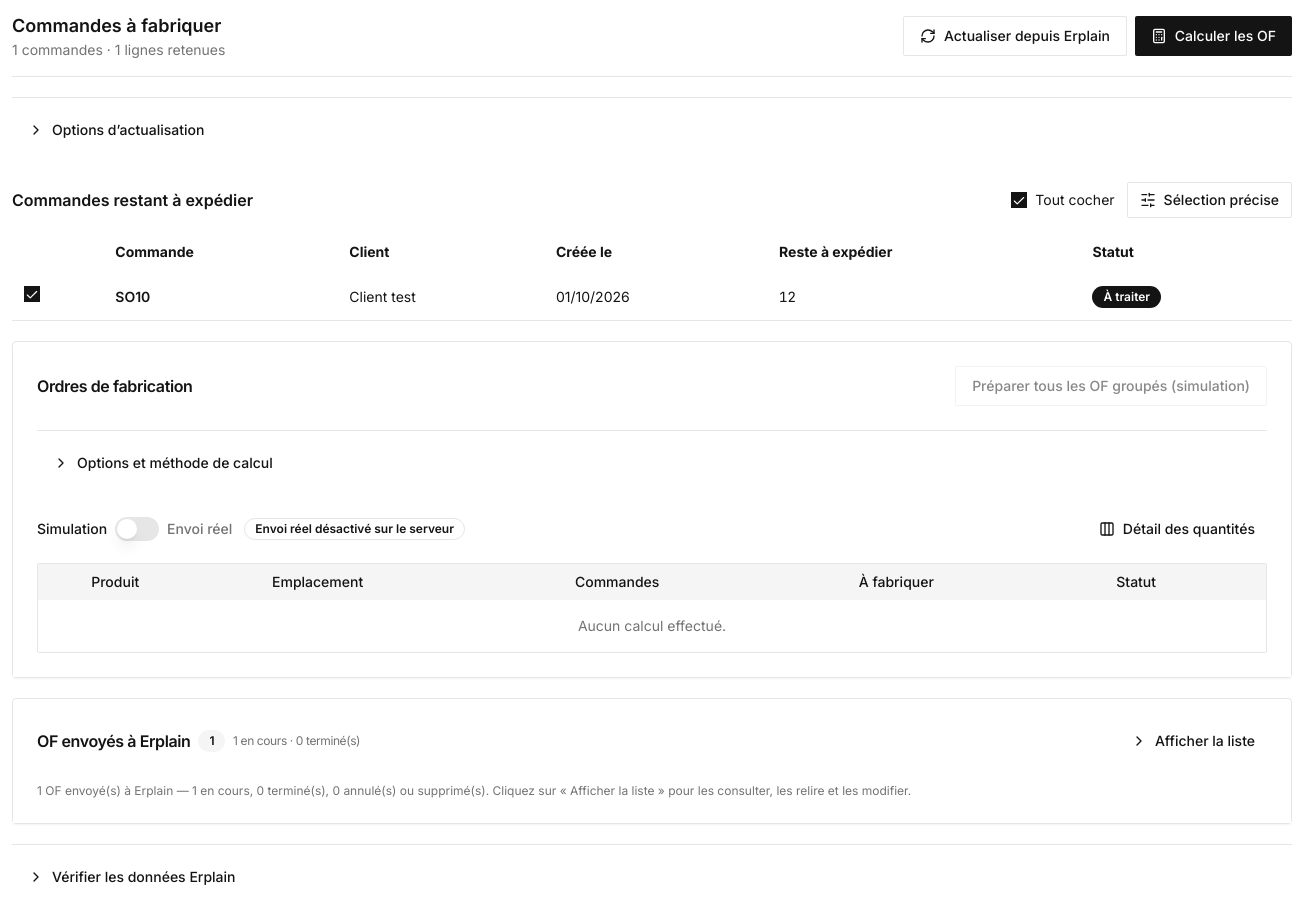
Test: Workshop order columns › shows client and creation date rather than shipping date
Expected: the text "Client test" is shown, [337,274,544,320]
Click the button "Sélection précise" at point(1209, 200), box [1127,182,1292,218]
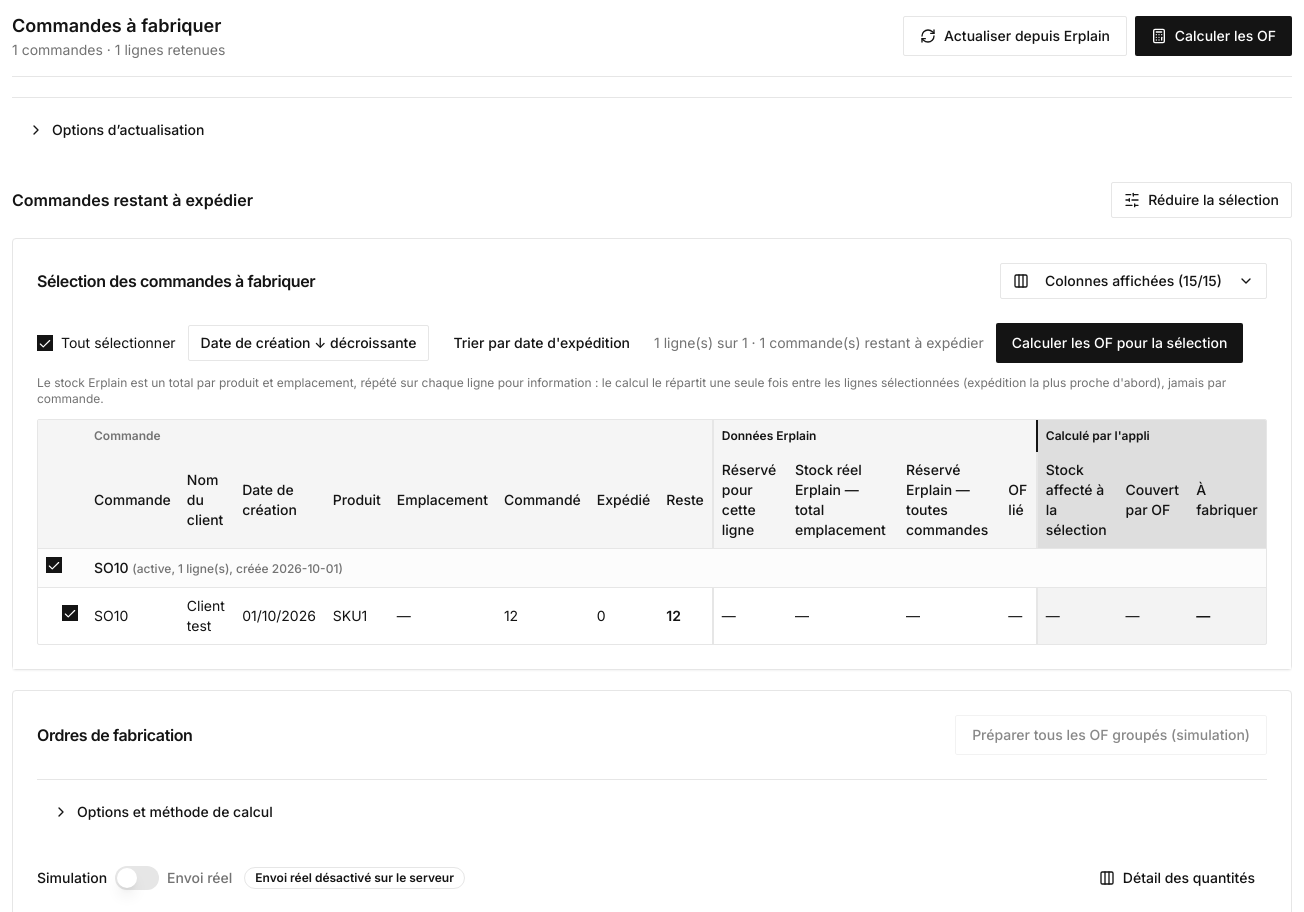
Expected: the text "01/10/2026" is shown, [234,588,325,644]
Now the column heading "Date de création" is shown, box [234,452,325,548]
